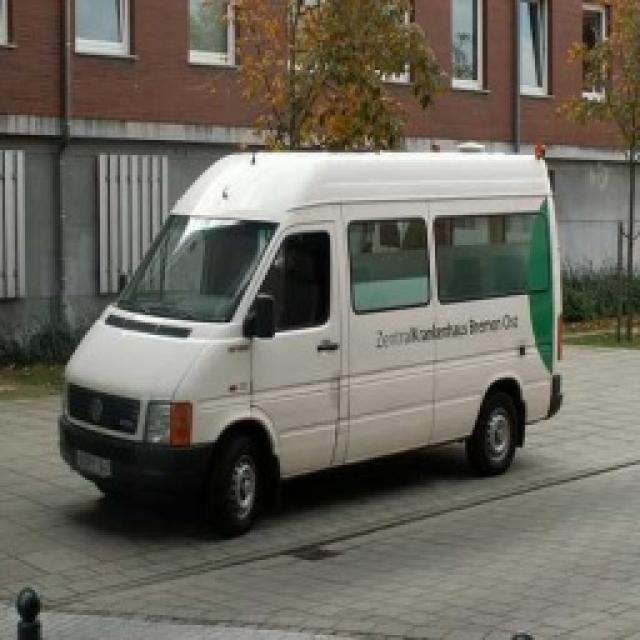emergency-vehicle: (60, 148, 571, 525)
